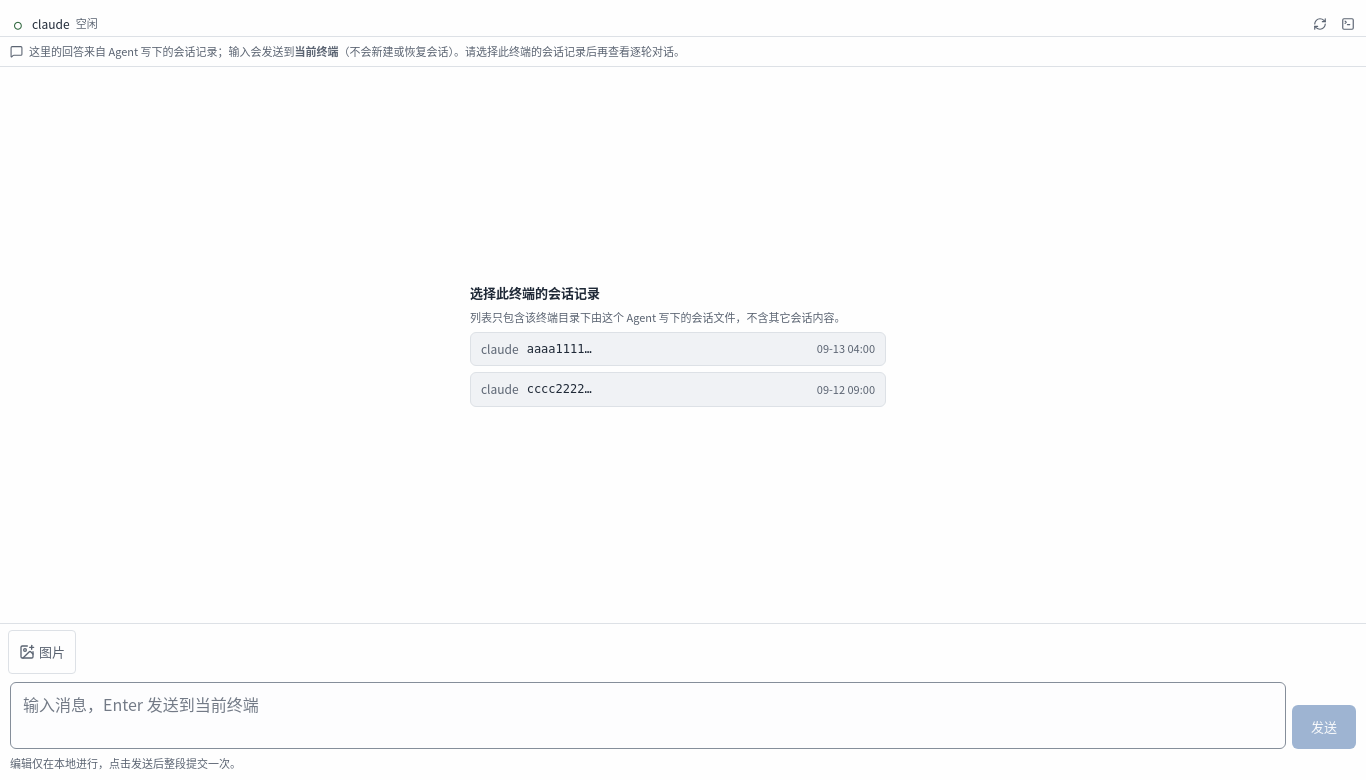
Test case: candidate selection › returns to the candidate list when the session expires
Click the button "claude aaaa1111… 09-13 04:00": (500, 348) 470,332 -> 886,366
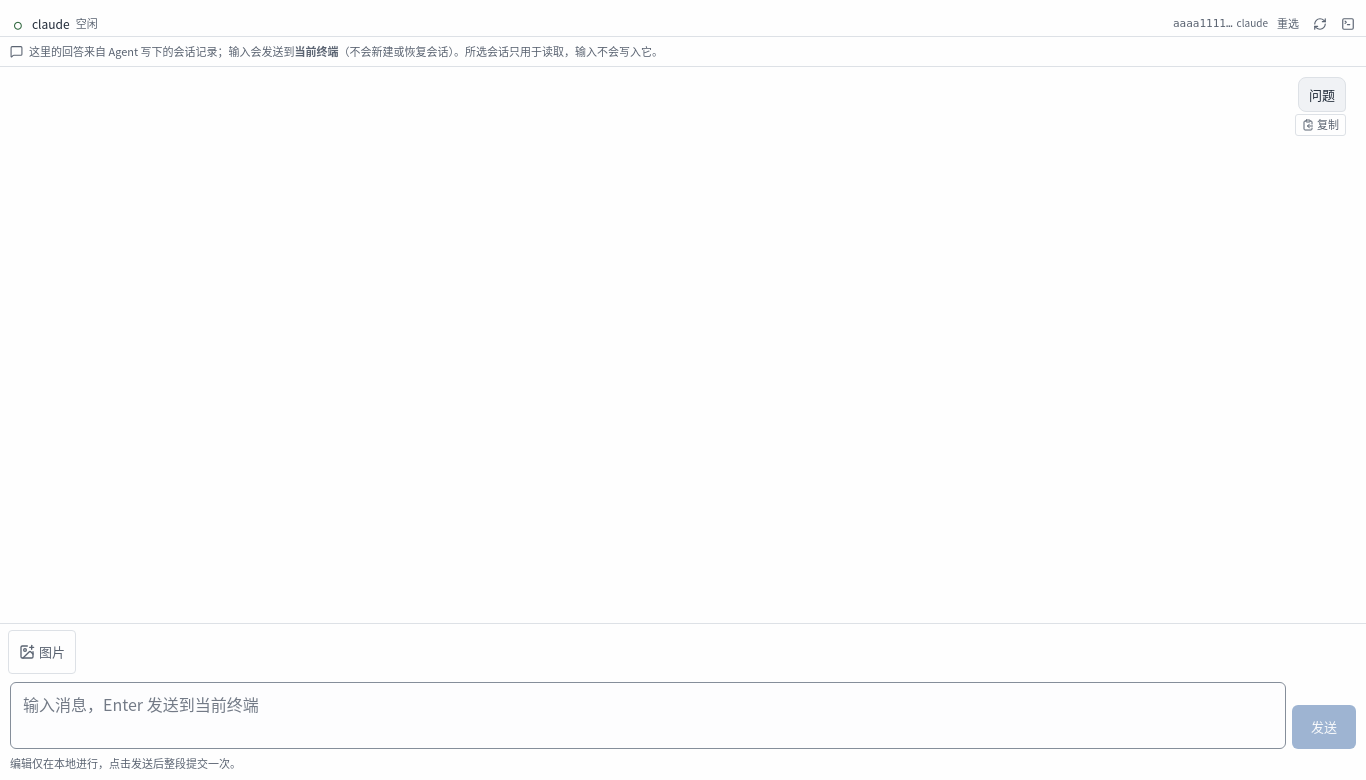
Check: the text "问题" is shown, box 1298,76 -> 1346,112
Click the button named "刷新会话记录": (1320, 24) 1308,12 -> 1332,36
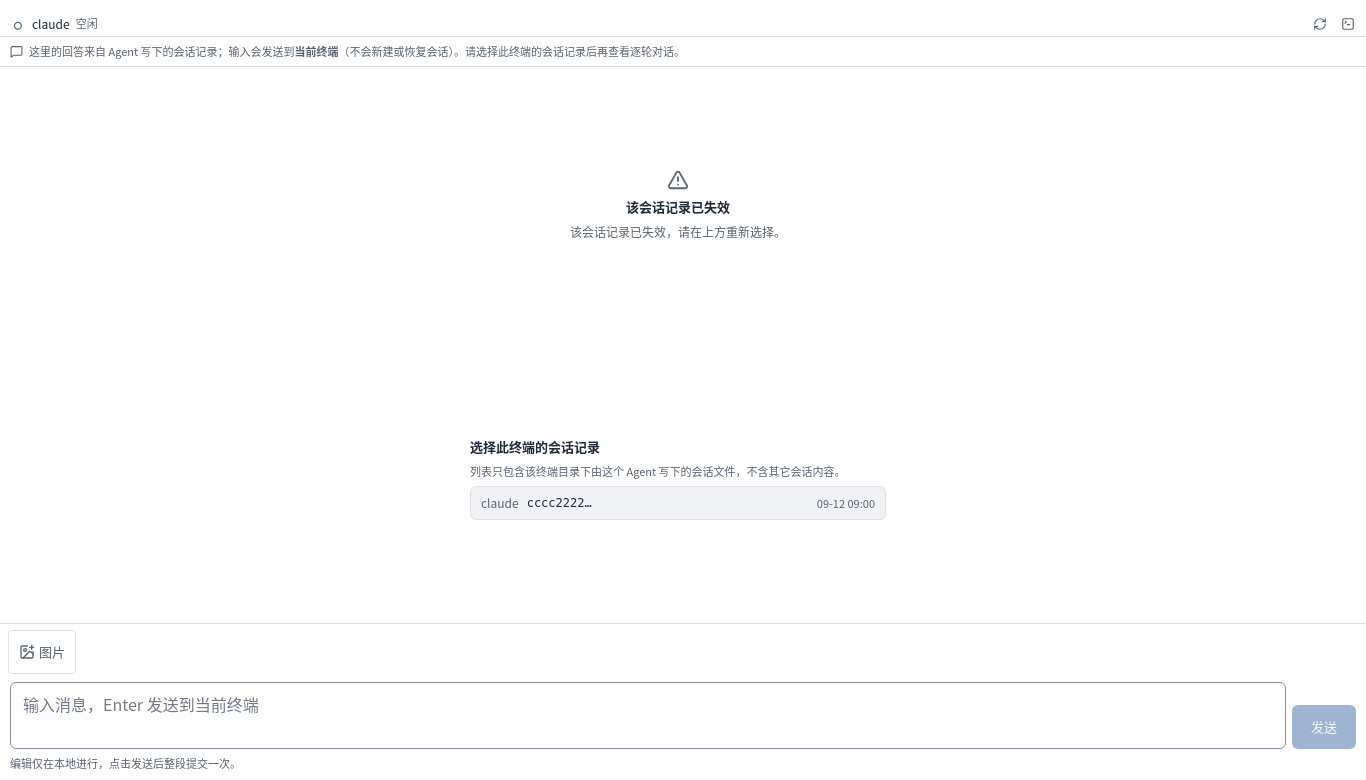
Check: the text "该会话记录已失效" is shown, box 626,197 -> 730,217
Check: the button "claude cccc2222… 09-12 09:00" is shown, box 470,486 -> 886,520
Check: the text "问题" is gone
